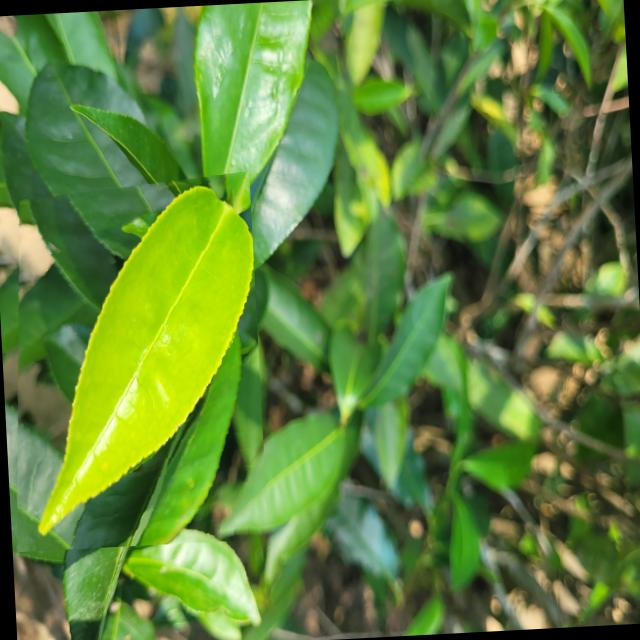Catagory A(1-2 days): (0, 169, 267, 552)
